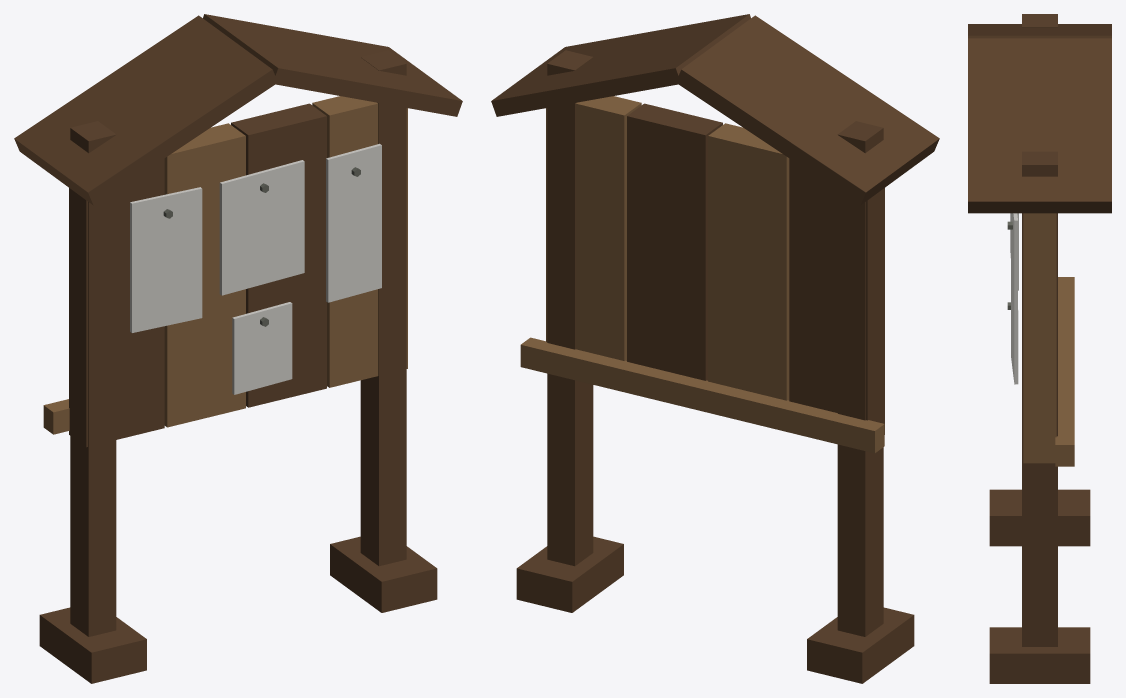
The model's file is notice-board.glb.
3 renders of one model, left to right at view 1: azimuth 30°, elevation 25°; view 2: azimuth 150°, elevation 25°; view 3: azimuth 270°, elevation 25°, orthographic. The views are drawn at different scales.
Parts seen in each view (by area): view 1: notice-board, note_2, note_1, note_3, note_4; view 2: notice-board; view 3: notice-board, note_3, note_4.
Boxes of the visible parts, bbox=[...] form: notice-board: bbox=[14, 14, 462, 683]; note_2: bbox=[219, 160, 304, 295]; note_1: bbox=[130, 187, 202, 332]; note_3: bbox=[326, 143, 381, 302]; note_4: bbox=[232, 302, 292, 394]; notice-board: bbox=[491, 14, 939, 683]; notice-board: bbox=[968, 14, 1111, 683]; note_3: bbox=[1007, 213, 1017, 359]; note_4: bbox=[1007, 302, 1018, 384].
Size of the model in its own units: 0.8781 by 1.3 by 0.3.
